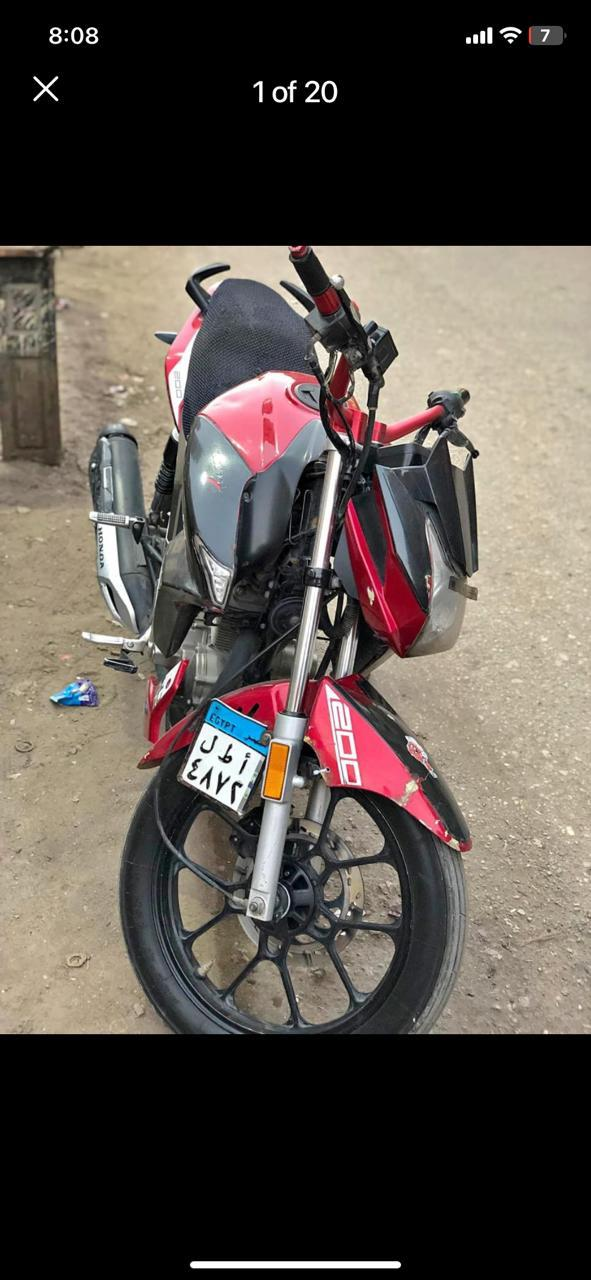License Plate: (178, 701, 272, 809)
